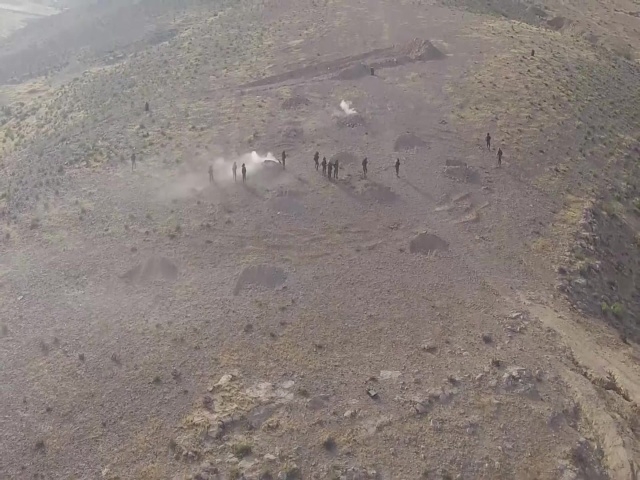person: (360, 156, 370, 179), (495, 145, 504, 170), (393, 155, 401, 179), (332, 157, 339, 181), (230, 161, 238, 182), (320, 156, 327, 177), (312, 151, 319, 172), (207, 164, 214, 183), (130, 153, 137, 172), (485, 132, 491, 154), (327, 160, 333, 180), (241, 163, 247, 183), (281, 150, 286, 170)
